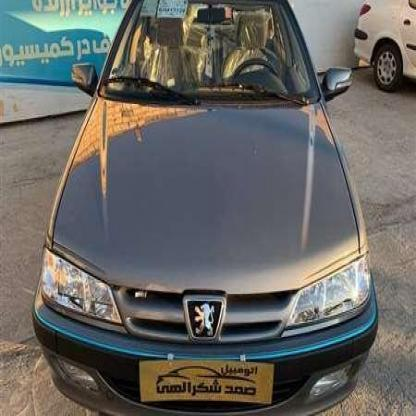Car: (33, 0, 379, 416), (348, 0, 416, 108)
